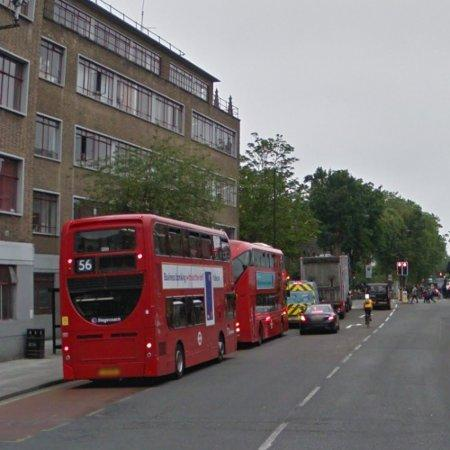buses: (60, 214, 236, 381), (231, 241, 289, 345)
